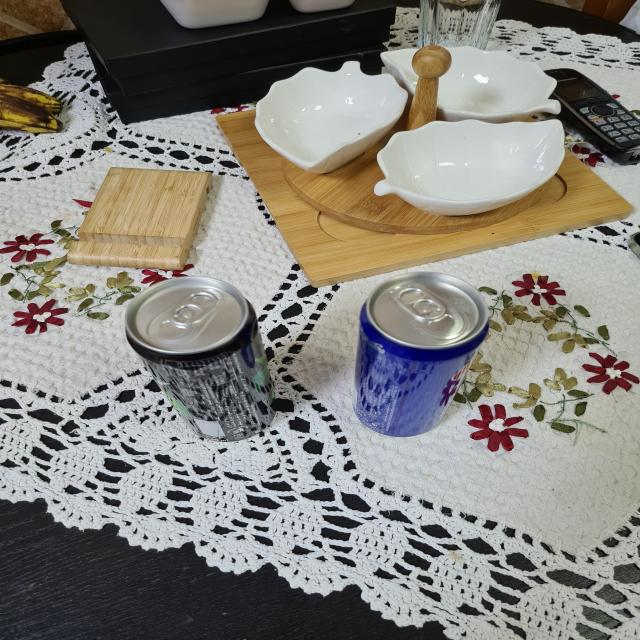non-organic waste: (122, 272, 288, 445), (348, 273, 491, 440)
